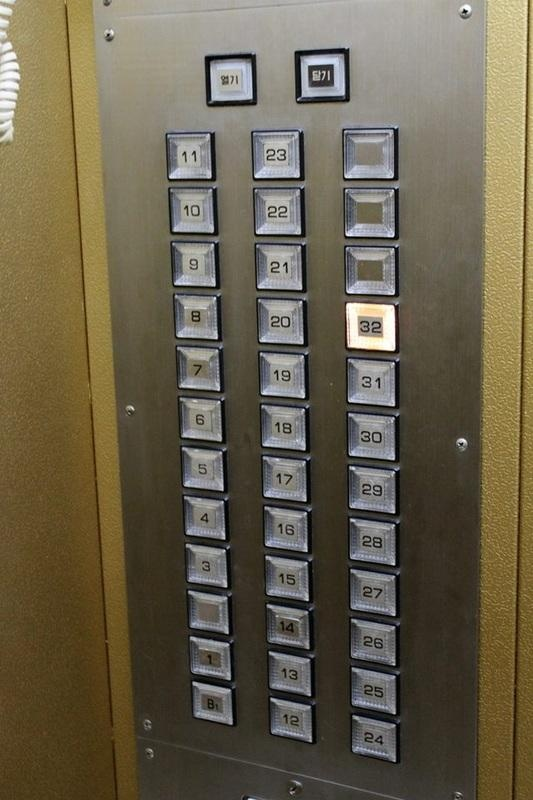1: (189, 633, 235, 686)
10: (167, 185, 219, 237)
11: (165, 132, 214, 179)
12: (269, 698, 312, 746)
13: (268, 650, 313, 700)
14: (267, 599, 311, 651)
15: (262, 555, 312, 602)
16: (262, 501, 307, 555)
17: (261, 455, 308, 507)
18: (258, 403, 307, 453)
19: (257, 349, 307, 399)
20: (258, 299, 306, 343)
21: (255, 242, 307, 292)
22: (252, 186, 305, 237)
23: (251, 129, 307, 181)
24: (352, 713, 398, 763)
25: (349, 659, 398, 717)
26: (348, 615, 398, 668)
27: (349, 565, 397, 620)
28: (349, 514, 397, 571)
29: (346, 463, 399, 519)
3: (184, 539, 229, 591)
30: (347, 408, 403, 466)
31: (344, 353, 402, 416)
32: (344, 298, 400, 357)
4: (181, 493, 227, 542)
5: (180, 444, 226, 494)
6: (177, 394, 226, 440)
7: (176, 342, 223, 395)
8: (171, 292, 223, 342)
9: (169, 238, 222, 290)
B1: (188, 673, 234, 729)
empty: (340, 126, 401, 183), (343, 240, 401, 299), (340, 186, 399, 242), (187, 590, 233, 640)
text: (293, 47, 350, 105), (202, 53, 260, 108)
